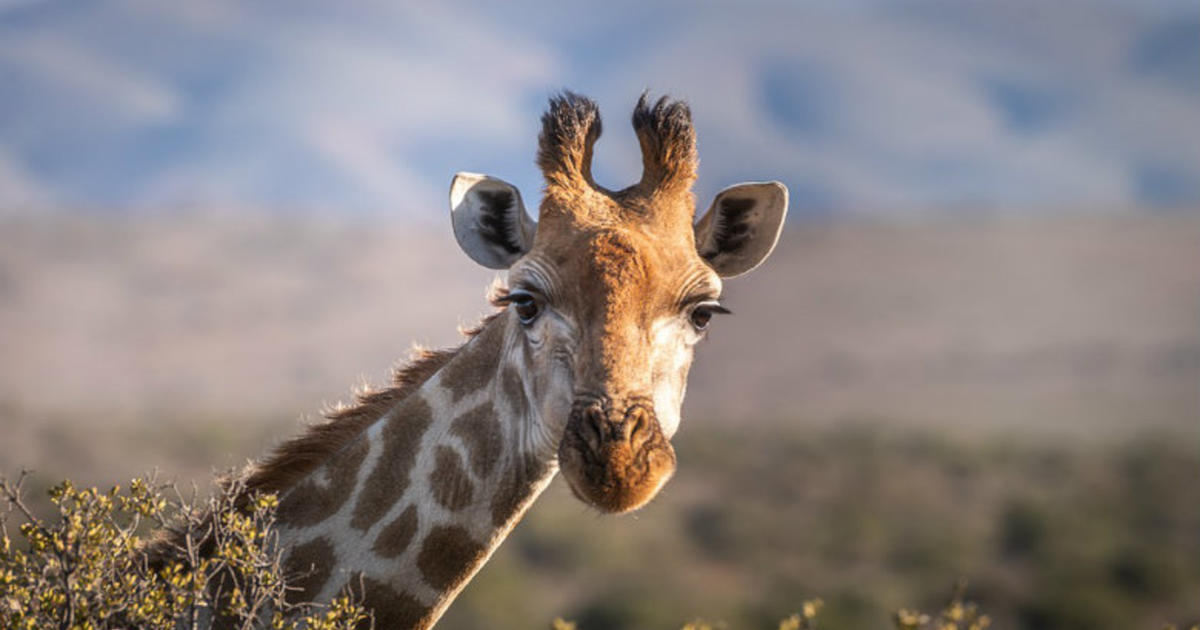Jirafa: (408, 61, 810, 548)
